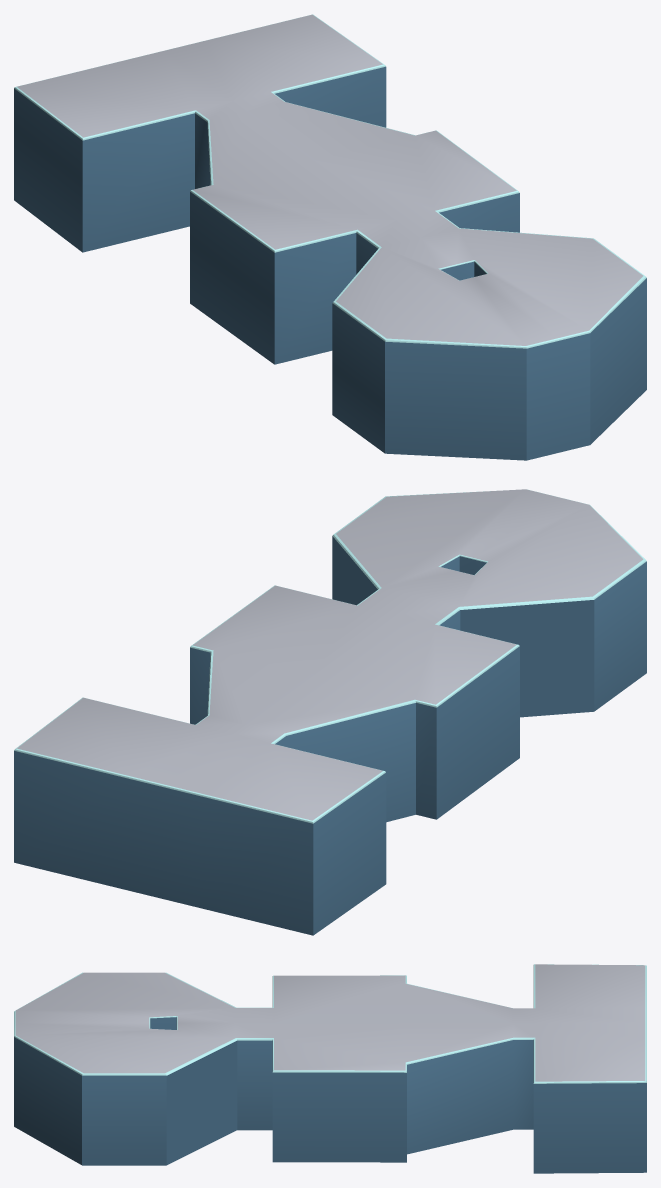
File: Lvl3.fbx
The picture shows the model from 3 angles, top to bottom: view 1: azimuth 30°, elevation 25°; view 2: azimuth 150°, elevation 25°; view 3: azimuth 270°, elevation 25°; orthographic projection. The views are drawn at different scales.
Parts seen in each view (by area): view 1: lvl3; view 2: lvl3; view 3: lvl3.
Boxes of the visible parts, box(x1,y1,x2,y2) form: lvl3: box(14, 14, 646, 460); lvl3: box(14, 489, 646, 935); lvl3: box(14, 964, 646, 1173).
Size of the model in its own units: 3966 by 1421 by 8936.
